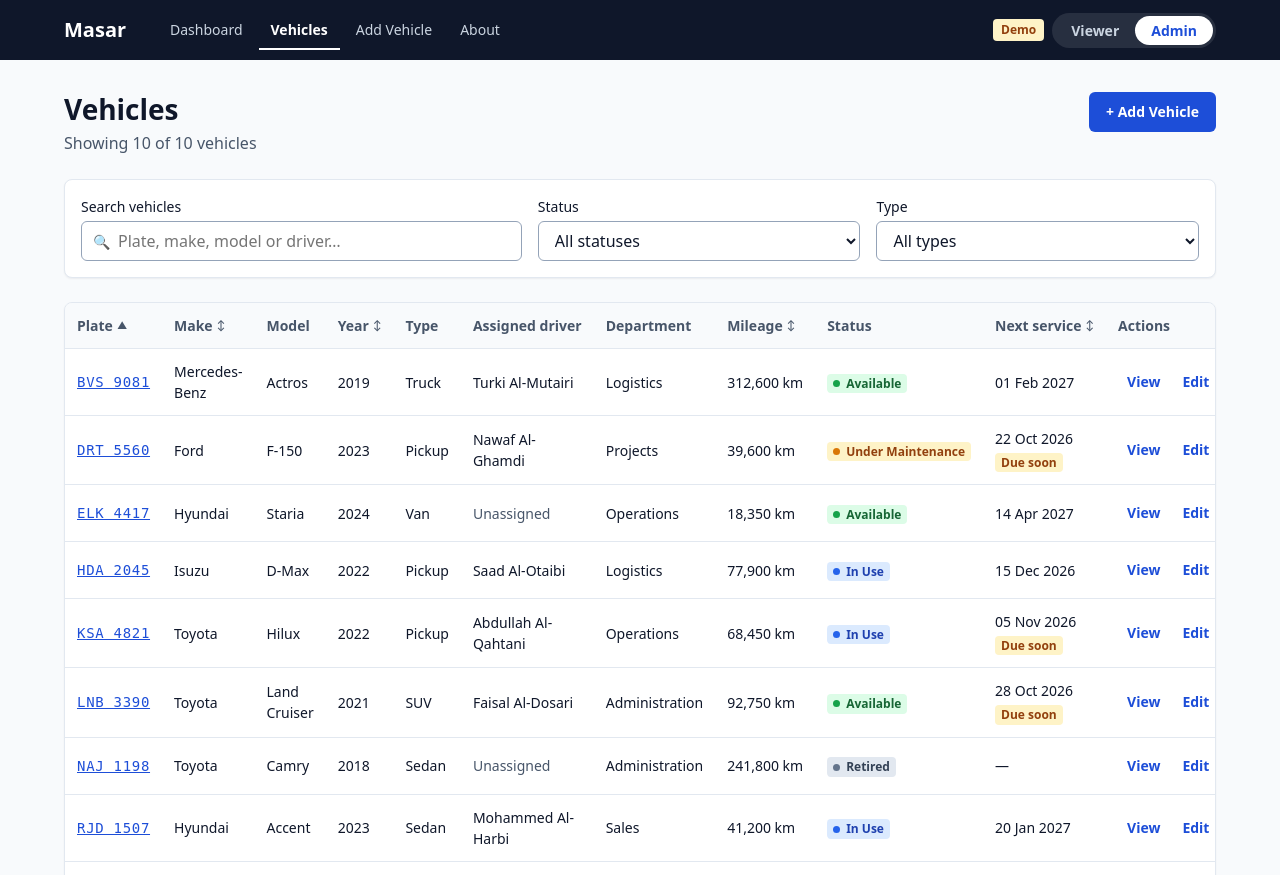
Test: Vehicle list: search and filter (US-7) › combines status and type filters (AC-7.4) and clears them (AC-7.6)
Check: the text "Showing 10 of 10 vehicles" is shown, box [64, 131, 257, 155]
Select "In Use" in the dropdown labelled "Status": (699, 241) [538, 221, 860, 261]
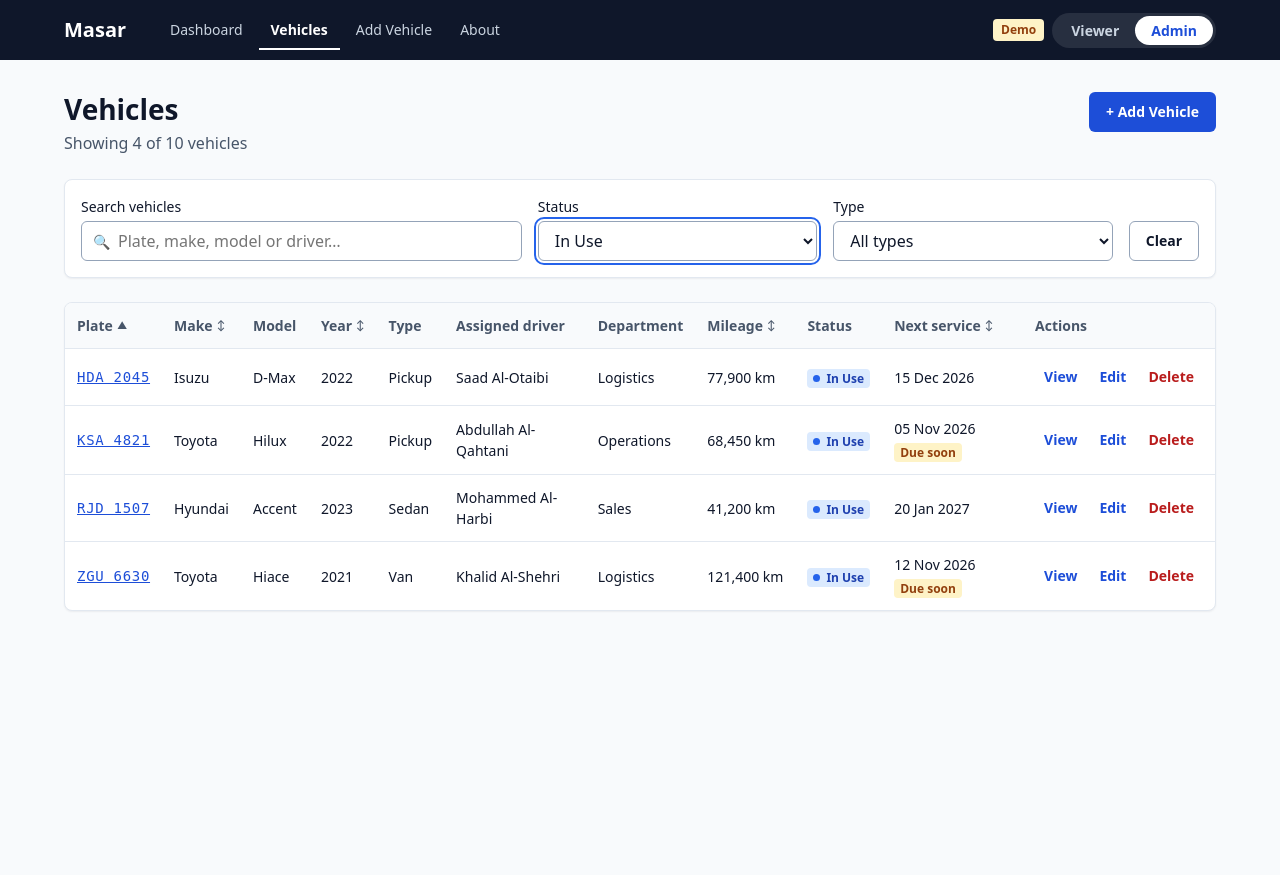
Select "Pickup" in the dropdown labelled "Type": (973, 241) [833, 221, 1113, 261]
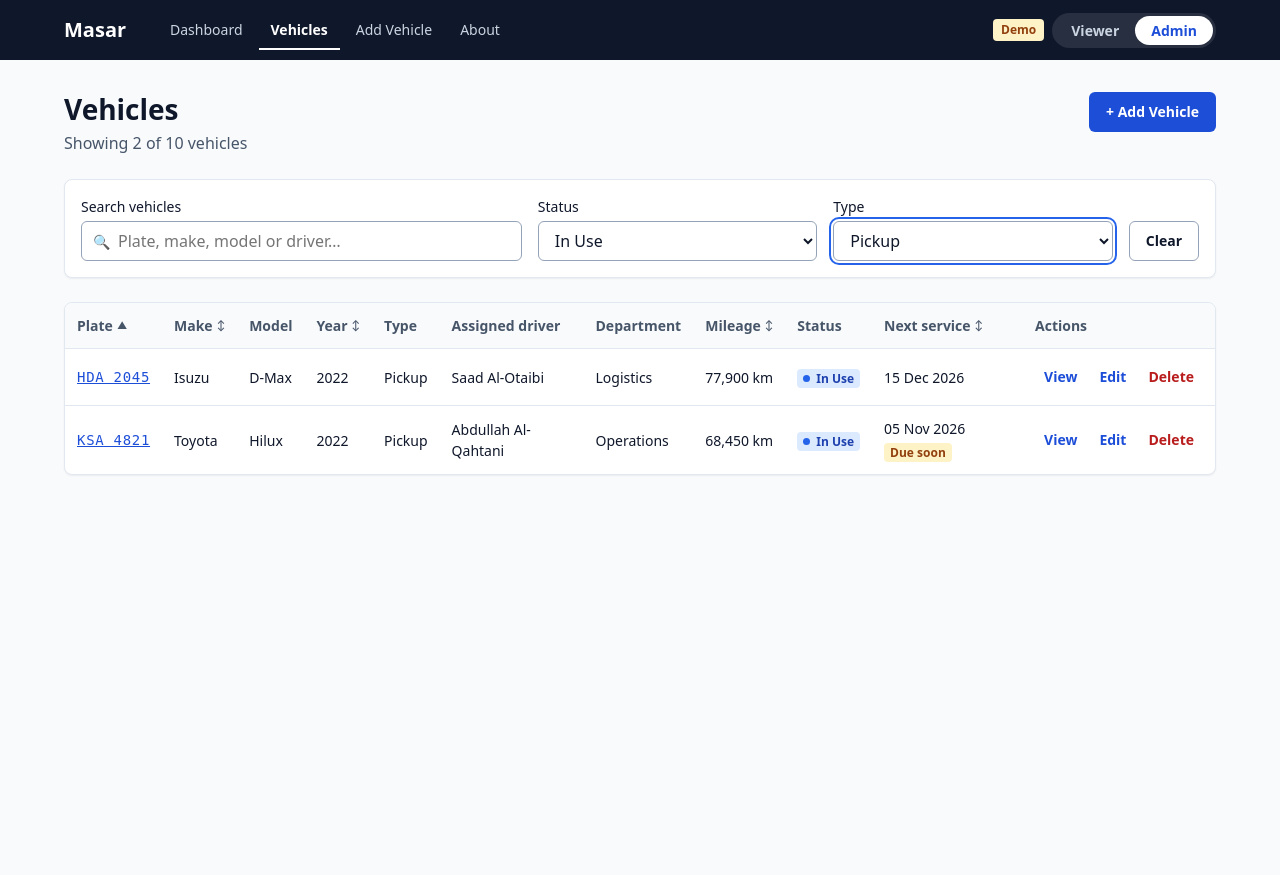
Click the button "Clear": (1164, 241) [1129, 221, 1199, 261]
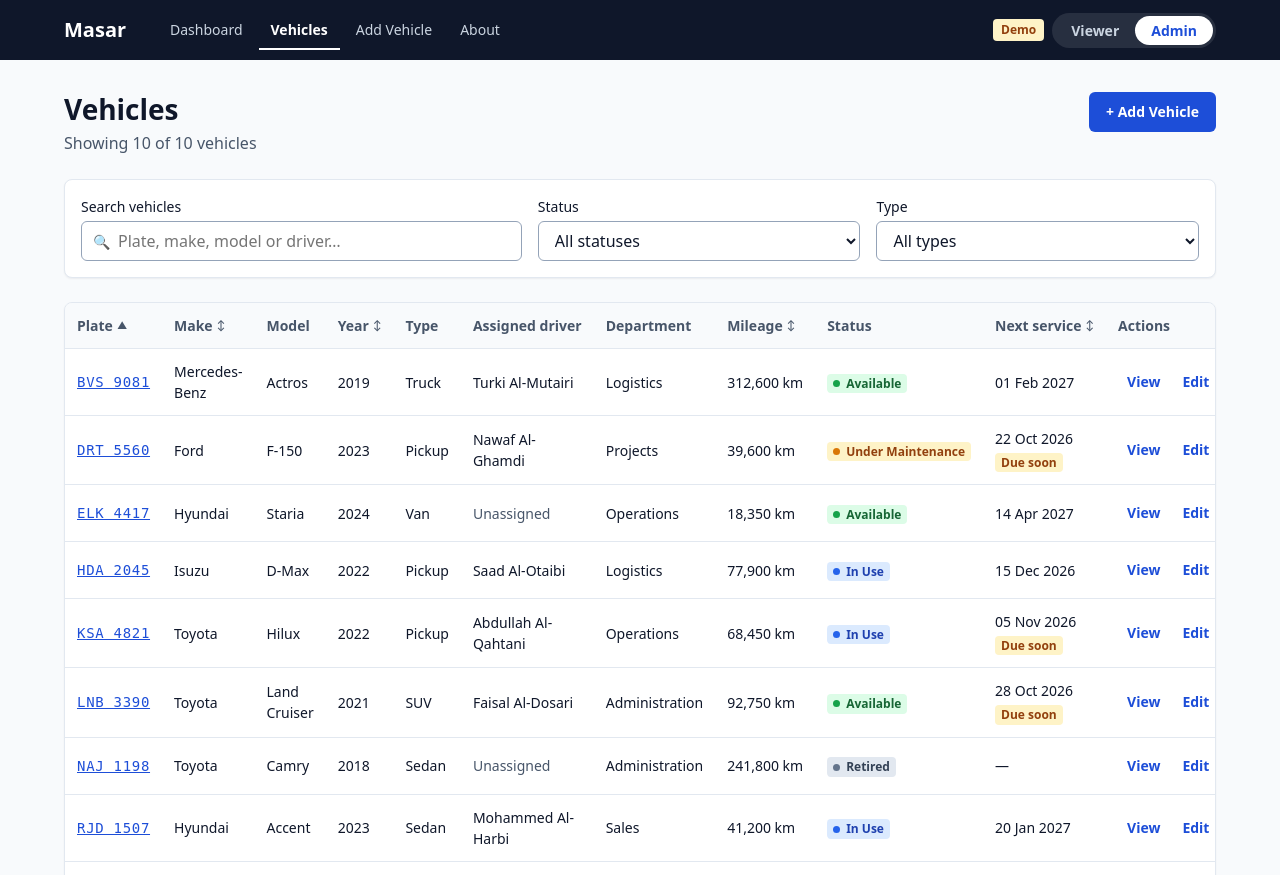
Check: the text "Showing 10 of 10 vehicles" is shown, box [64, 131, 257, 155]
